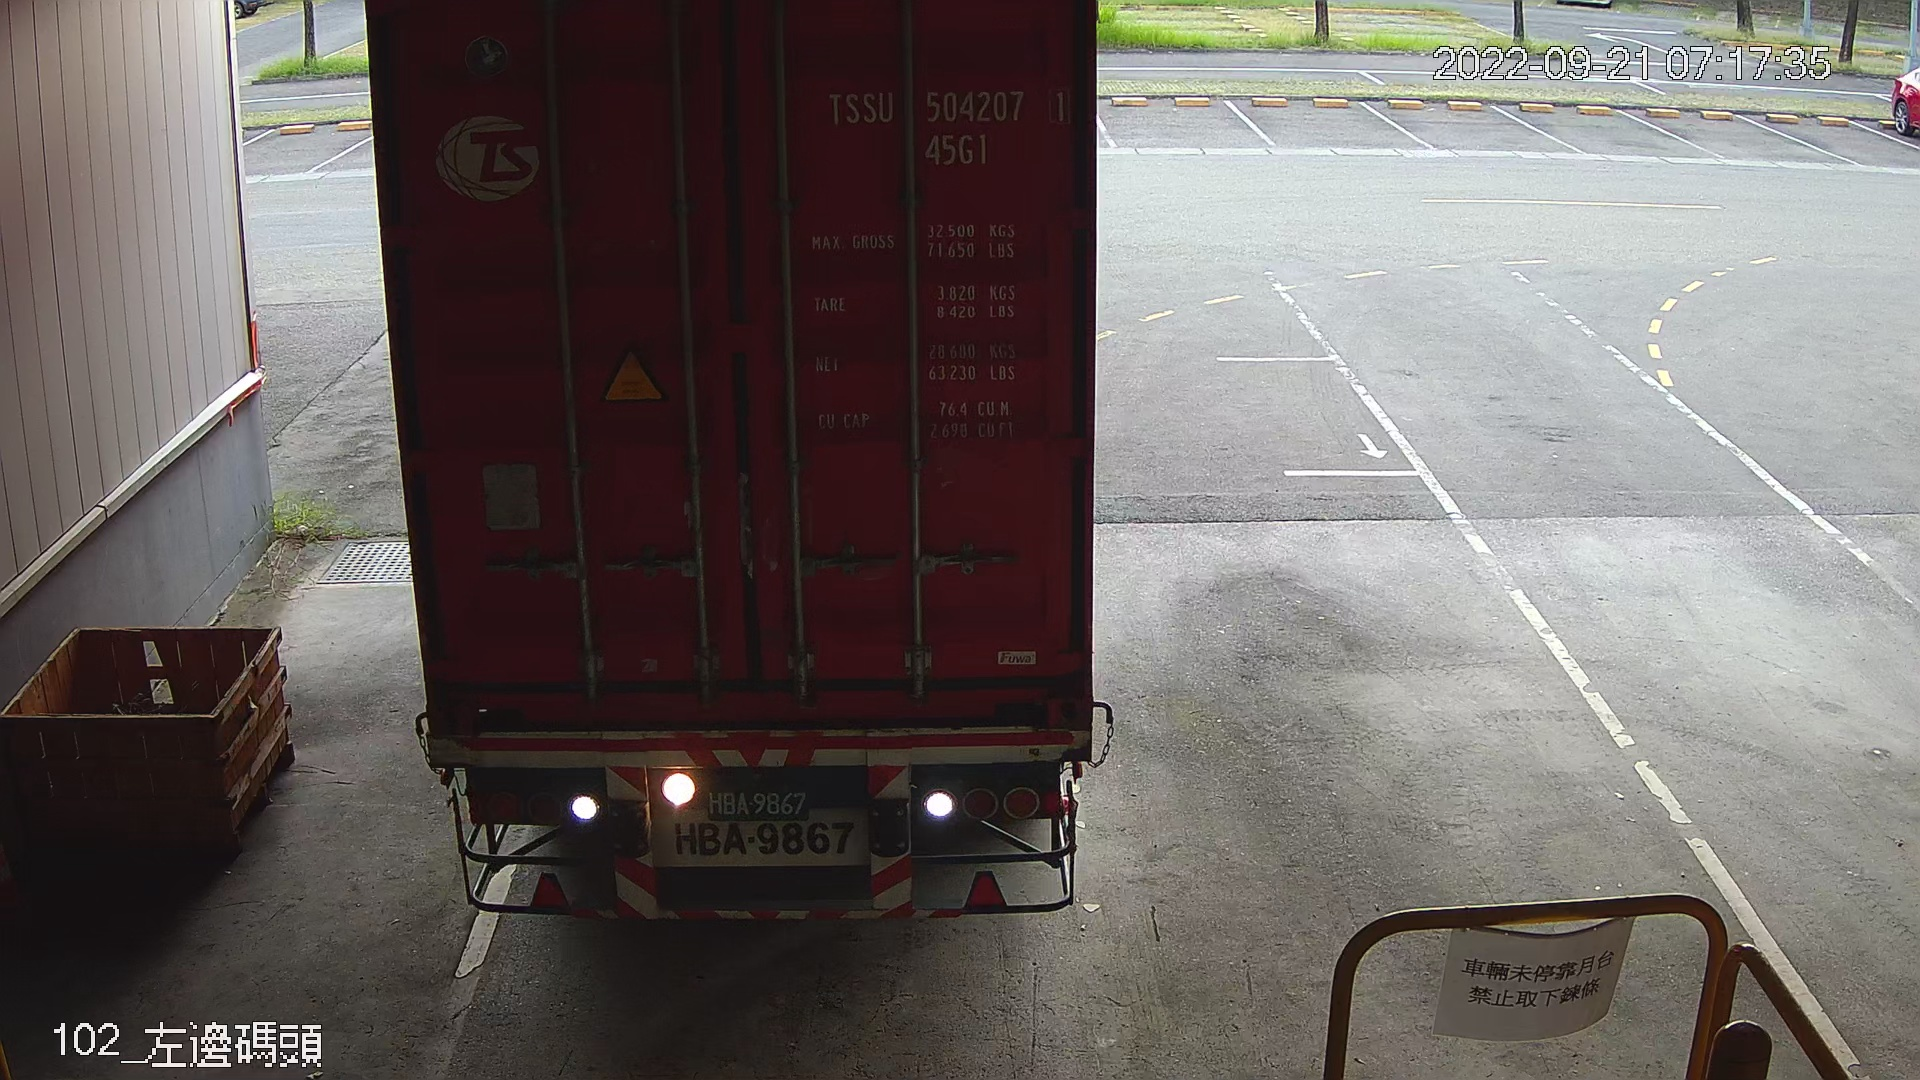container: (820, 79, 1079, 174)
